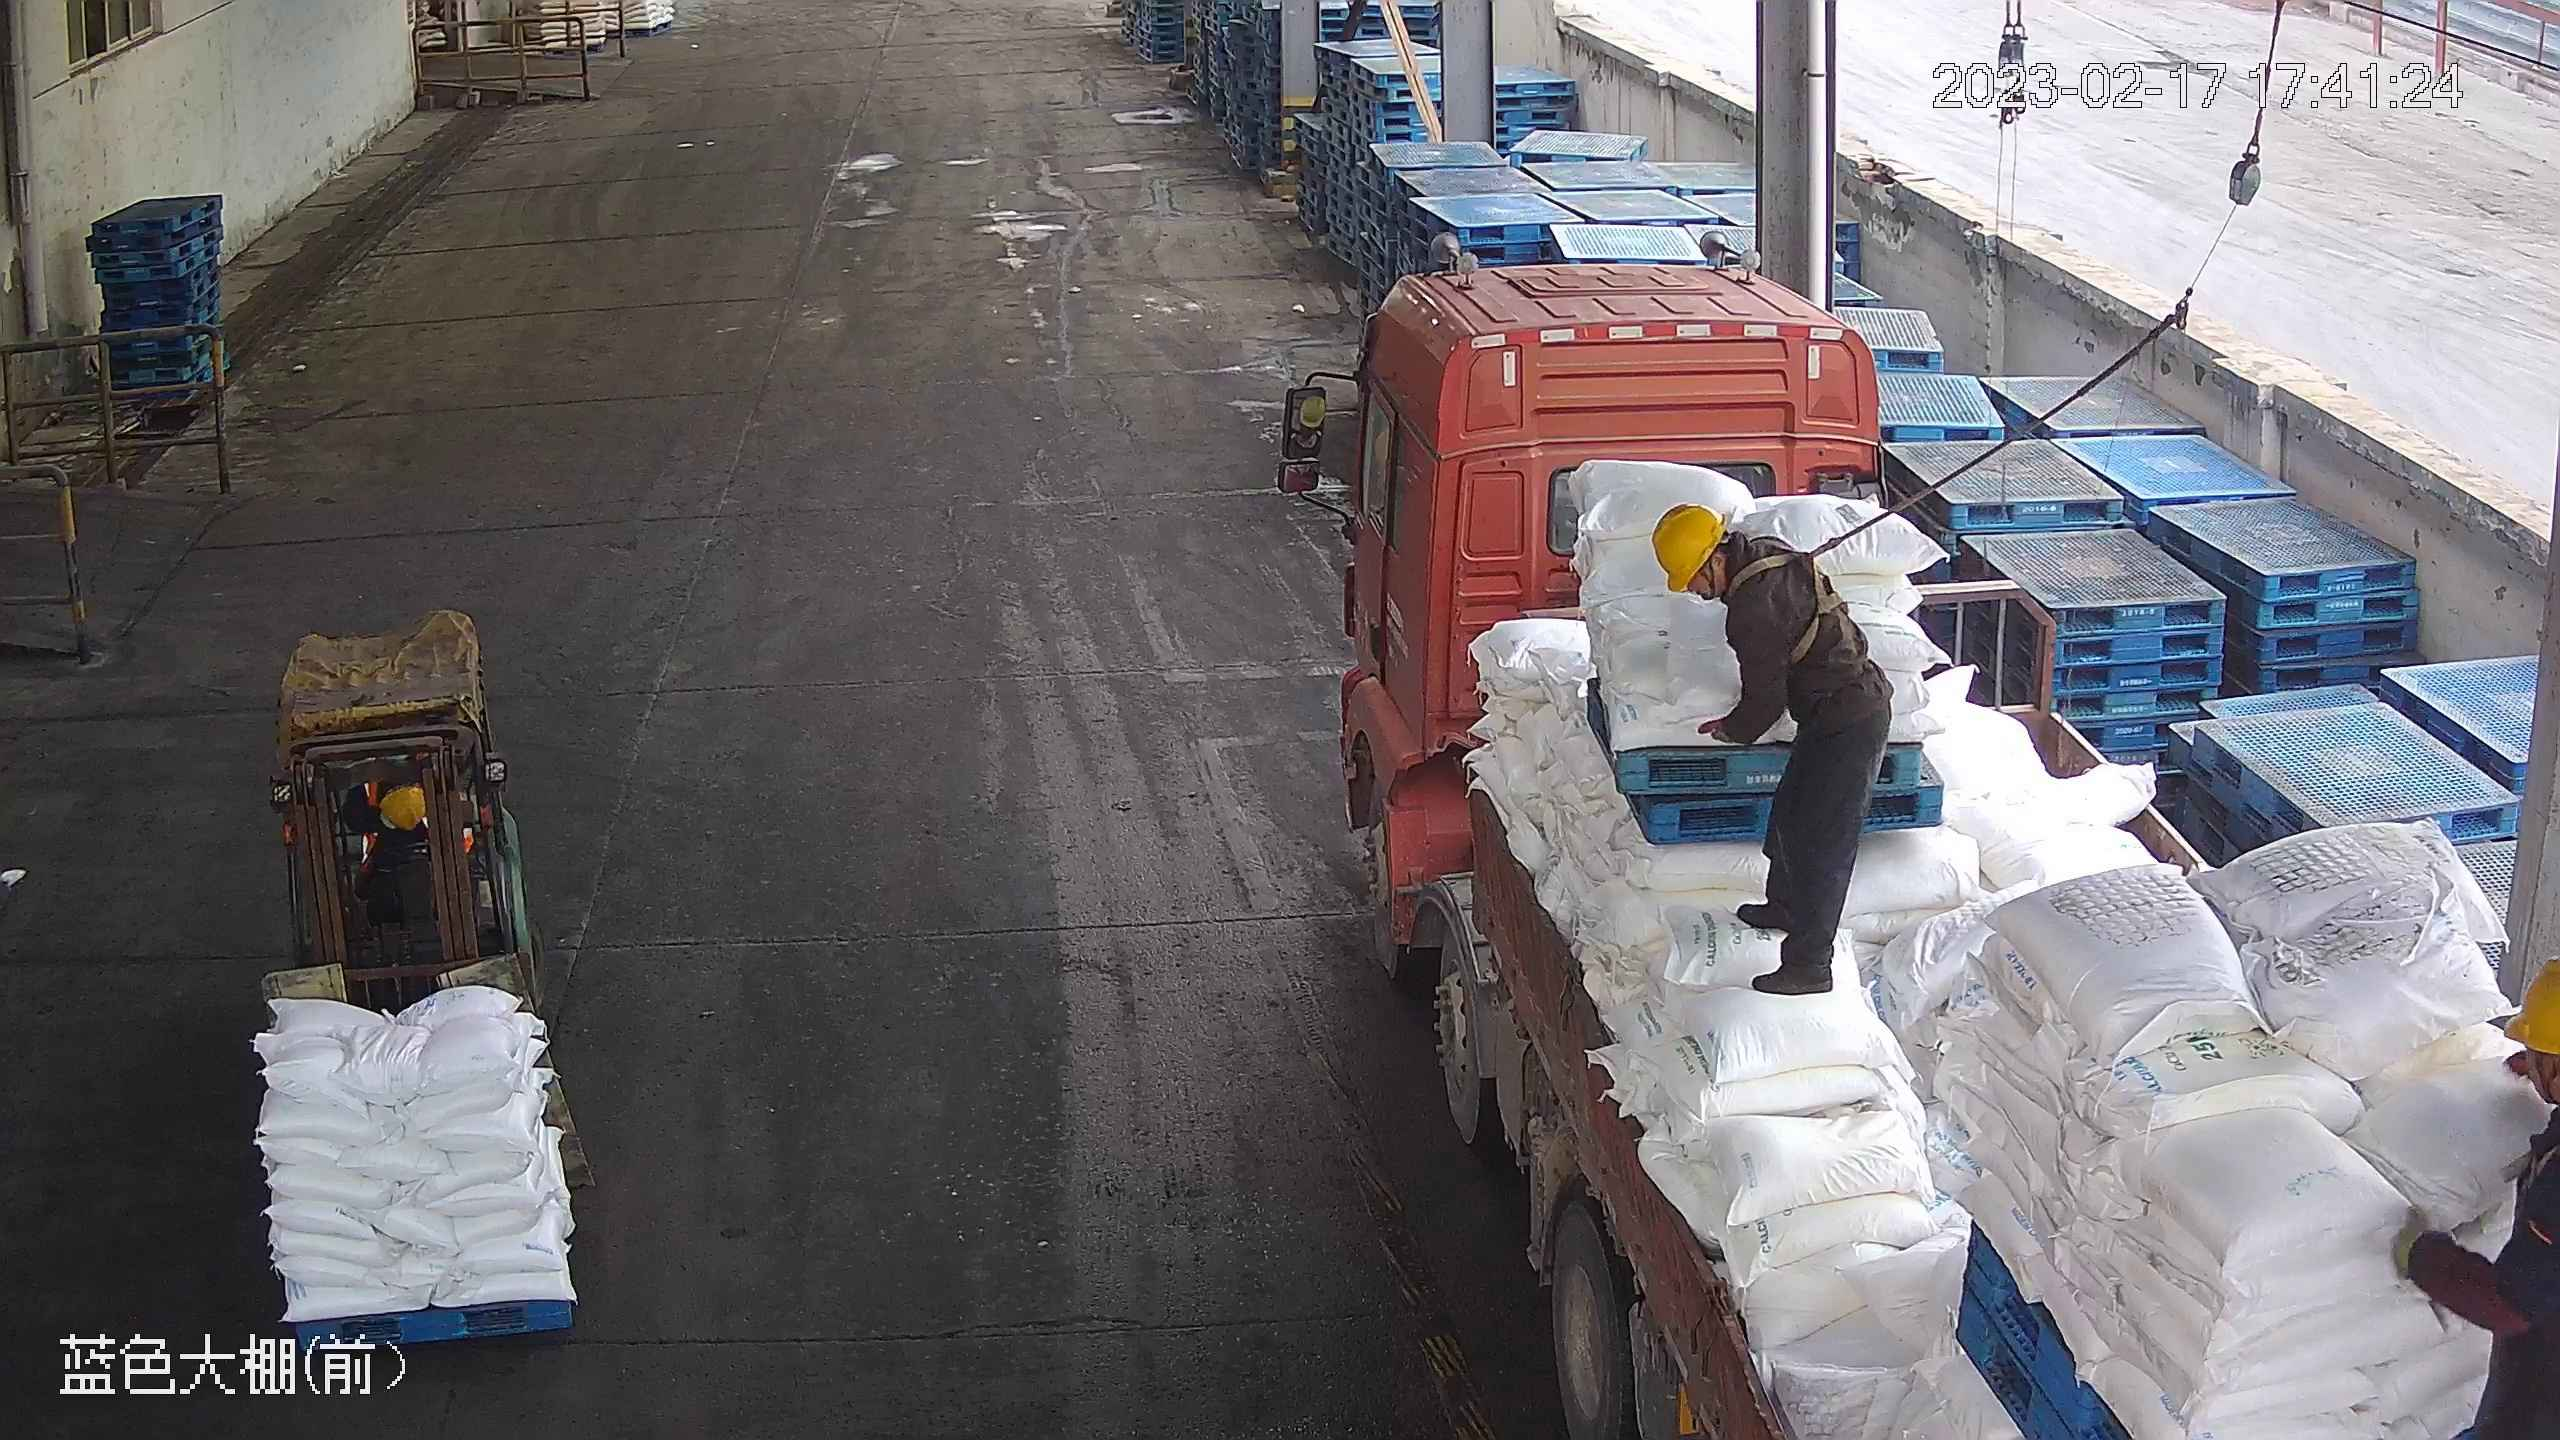belt: (1734, 535, 1856, 663), (2520, 1072, 2560, 1263)
head: (1646, 498, 1827, 651), (2471, 950, 2559, 1205)
helmet: (1648, 500, 1727, 598), (2505, 950, 2560, 1061), (380, 782, 426, 830)
people: (1650, 498, 1892, 995), (2386, 950, 2560, 1433)
truck: (1281, 245, 2547, 1434)
